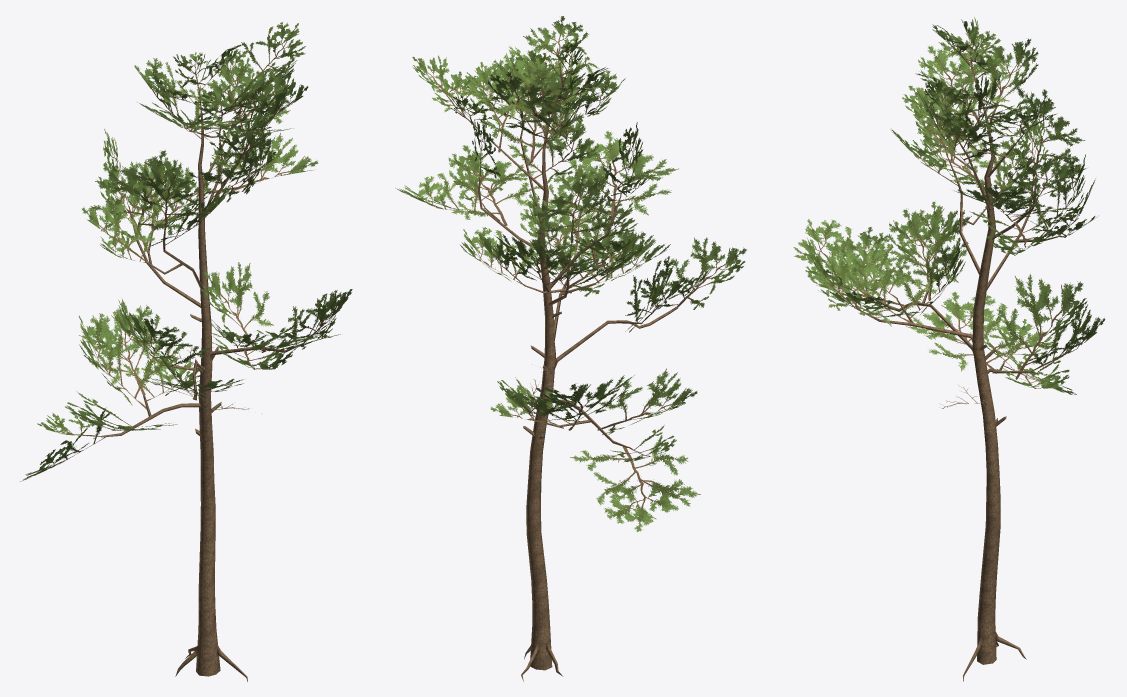
The picture shows the model from 3 angles, left to right: view 1: azimuth 30°, elevation 25°; view 2: azimuth 150°, elevation 25°; view 3: azimuth 270°, elevation 25°; orthographic projection.
Visible parts, largest first — view 1: Pine_medium_3_LOD2_Bark_Mat_0; view 2: Pine_medium_3_LOD2_Bark_Mat_0; view 3: Pine_medium_3_LOD2_Bark_Mat_0.
Boxes of the visible parts, x1,y1,x2,y2 form: Pine_medium_3_LOD2_Bark_Mat_0: [20, 22, 352, 681]; Pine_medium_3_LOD2_Bark_Mat_0: [395, 16, 746, 681]; Pine_medium_3_LOD2_Bark_Mat_0: [793, 17, 1105, 681].
Bounding box in the file's own units: 5.22 × 10.47 × 4.78.
